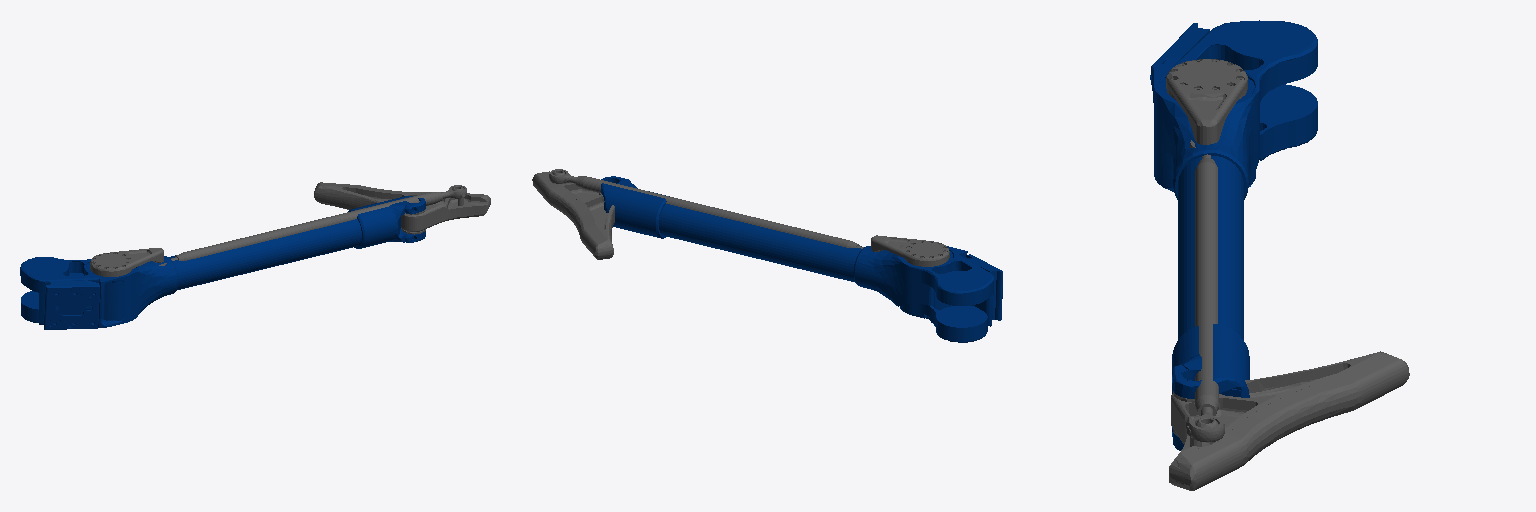
URDF robot description (foot_crank):
<robot name="foot_crank">
    <link name="tarsus_left">
        <inertial>
            <origin
                    xyz=".11046 -.03058 -.00131"
                    rpy="0 0 0" />
            <mass value="0.782" />
            <inertia
                    ixx=".001125"
                    ixy="-.002878"
                    ixz="-.00006329"
                    iyy=".023138"
                    iyz=".00003615"
                    izz=".023947" />
        </inertial>
        <visual>
            <origin
                    xyz="0 0 0"
                    rpy="0 0 0" />
            <geometry>
                <mesh filename="meshes/tarsus.obj" />
            </geometry>
            <material name="">
                <color rgba="0.024 0.24 0.5 1.0" />
            </material>
        </visual>
    </link>
    <link name="toe_left">
        <inertial>
            <origin
                    xyz="0.00474 0.02748 -0.00014"
                    rpy="0 0 0" />
            <mass value="0.1498" />
            <inertia
                    ixx=".000287"
                    ixy="-.00009863"
                    ixz="-.000001456"
                    iyy=".0001713"
                    iyz=".0000001716"
                    izz=".0004491" />
        </inertial>
        <visual>
            <origin
                    xyz="0 0 0"
                    rpy="0 0 0" />
            <geometry>
                <mesh filename="meshes/agility/left_foot.obj" />
            </geometry>
            <material name="">
                <color rgba="0.4 0.4 0.4 1" />
            </material>
        </visual>
    </link>
    <link name="foot_crank_left">
        <inertial>
            <origin
                    xyz="0.00493 2e-05 -0.00215"
                    rpy="0 0 0" />
            <mass value="0.1261" />
            <inertia
                    ixx="2.6941e-05"
                    ixy="-2.1e-09"
                    ixz="-3.9623e-06"
                    iyy="4.9621e-05"
                    iyz="-1.09e-08"
                    izz="6.3362e-05" />
        </inertial>
        <visual>
            <origin
                    xyz="0 0 0"
                    rpy="0 0 0" />
            <geometry>
                <mesh filename="meshes/agility/foot_crank.obj" />
            </geometry>
            <material name="">
                <color rgba="0.4 0.4 0.4 1" />
            </material>
        </visual>
    </link>
    <link name="plantar_rod_left">
        <inertial>
            <origin
                    xyz="0.17792 0 0"
                    rpy="0 0 0" />
            <mass value="0.1186" />
            <inertia
                    ixx=".000287"
                    ixy="-2.34e-08"
                    ixz="-8.1e-09"
                    iyy="0.001774"
                    iyz="0"
                    izz="0.001775" />
        </inertial>
        <visual>
            <origin
                    xyz="0 0 0"
                    rpy="0 0 0" />
            <geometry>
                <mesh filename="meshes/agility/plantar_rod.obj" />
            </geometry>
            <material name="">
                <color rgba="0.4 0.4 0.4 1" />
            </material>
        </visual>
    </link>

    <joint name="toe_left" type="revolute">
        <origin xyz="0.408 -0.040 0" rpy="0 0 0" />
        <parent link="tarsus_left" />
        <child link="toe_left" />
        <axis xyz="0 0 1" />
        <limit lower="-2.8" upper="0" effort="300"/>
        <dynamics damping="1" />
    </joint>

    <joint name="foot_crank_left" type="revolute">
        <origin xyz=".058 -0.034 0.02275"/>
        <parent link="tarsus_left" />
        <child link="foot_crank_left" />
        <axis xyz="0 0 1" />
        <limit lower="-2.8" upper="0" effort="300"/>
        <dynamics damping="1" />
    </joint>

    <joint name="plantar_rod_left" type="revolute">
        <origin xyz="0.055 0 -0.00791"/>
        <parent link="foot_crank_left" />
        <child link="plantar_rod_left" />
        <axis xyz="0 0 1" />
        <limit lower="0" upper="2.8" effort="300"/>
        <dynamics damping="1" />
    </joint>

</robot>

--- What the picture shows (computed from the rendered views, not written in the file) ---
Views: 3 orthographic renders of the robot side by side, from view 1: azimuth 30°, elevation 25°; view 2: azimuth 150°, elevation 25°; view 3: azimuth 270°, elevation 25°.
Model foot_crank with 4 links and 3 joints (3 revolute), rooted at tarsus_left, posed all joints at 0.
Visible links, largest first — view 1: tarsus_left, toe_left, plantar_rod_left, foot_crank_left; view 2: tarsus_left, toe_left, plantar_rod_left, foot_crank_left; view 3: tarsus_left, toe_left, plantar_rod_left, foot_crank_left.
Link boxes in pixels (x1,y1,x2,y2): tarsus_left: (20,196,425,329); toe_left: (314,182,490,234); plantar_rod_left: (159,185,466,265); foot_crank_left: (90,248,163,276); tarsus_left: (601,176,1002,342); toe_left: (532,171,614,259); plantar_rod_left: (549,169,863,248); foot_crank_left: (871,235,949,266); tarsus_left: (1150,20,1317,450); toe_left: (1169,351,1409,490); plantar_rod_left: (1189,140,1224,441); foot_crank_left: (1166,59,1247,144).
Bounding box of the posed robot: 0.5226 × 0.137 × 0.0603 m (x, y, z).
4 mesh visuals loaded from 4 distinct referenced files (4 OBJ).
